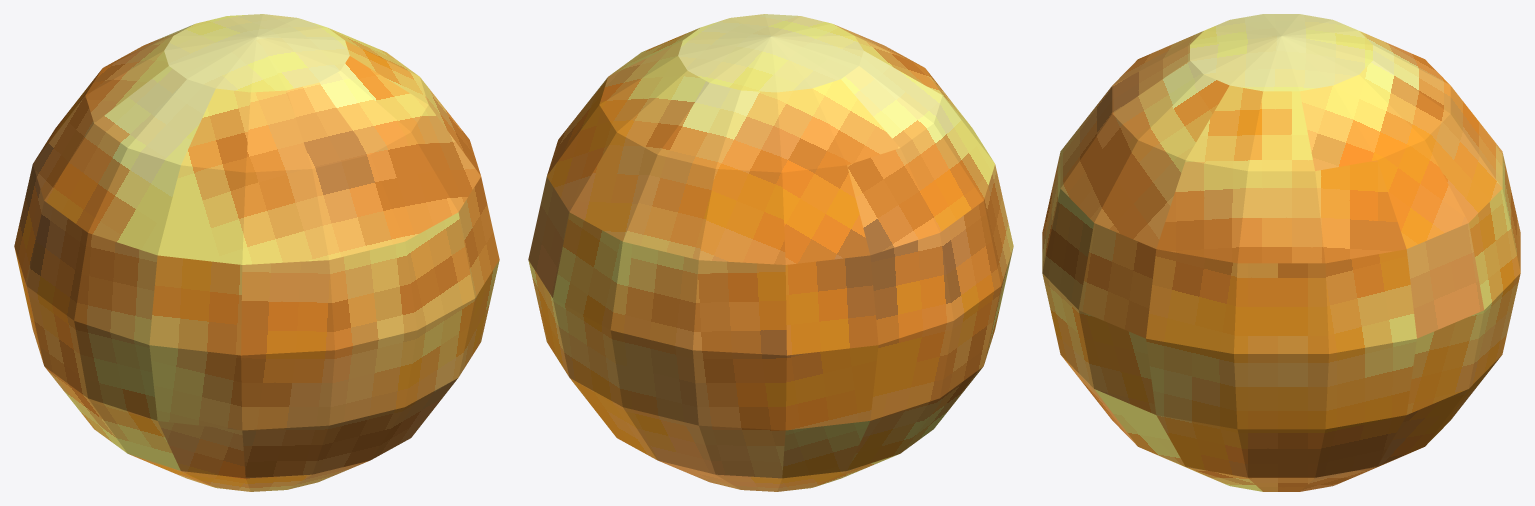
Rendered from sun.fbx.
3 views of the same model, side by side, from view 1: azimuth 30°, elevation 25°; view 2: azimuth 150°, elevation 25°; view 3: azimuth 270°, elevation 25° (orthographic).
Parts seen in each view (by area): view 1: sphere; view 2: sphere; view 3: sphere.
Boxes of the visible parts, bbox=[...] form: sphere: bbox=[14, 14, 499, 491]; sphere: bbox=[528, 14, 1013, 491]; sphere: bbox=[1042, 14, 1520, 491].
Bounding box in the file's own units: 400 × 400 × 400.
Materials: 1 (1 with a texture image).
